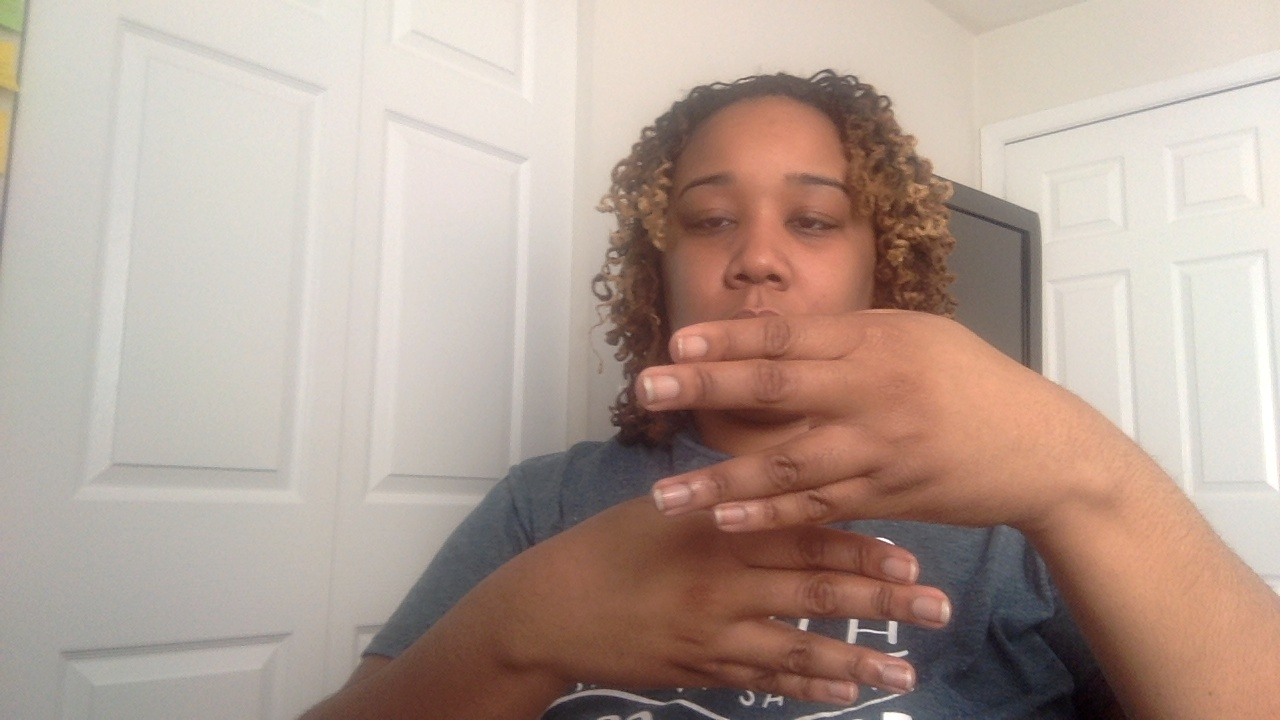world: (337, 297, 1129, 718)
